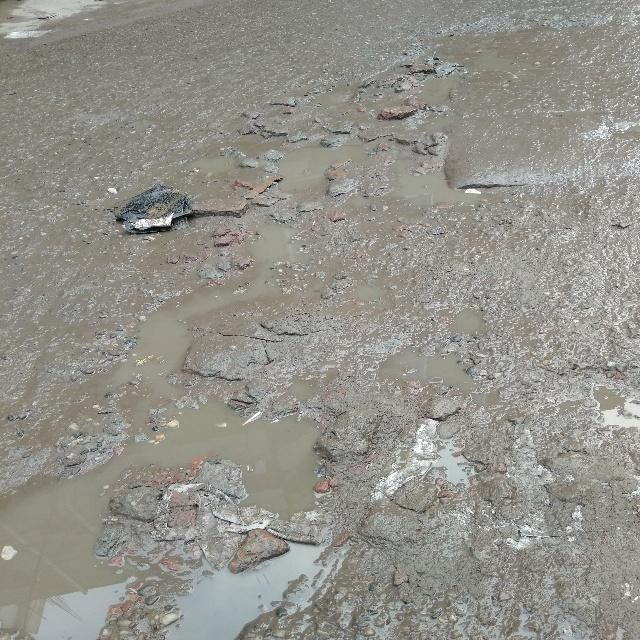Surface Erosion: (0, 61, 569, 640)
